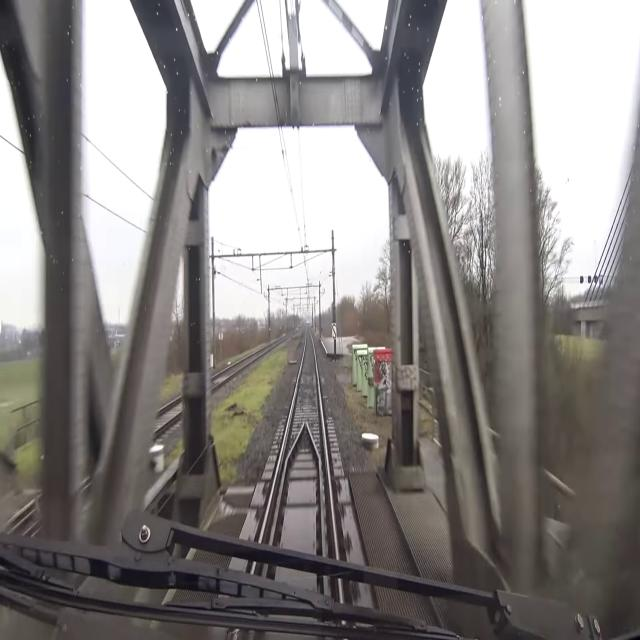rail-track: (264, 329, 333, 545), (277, 427, 319, 542), (157, 399, 182, 425), (214, 362, 243, 383)
